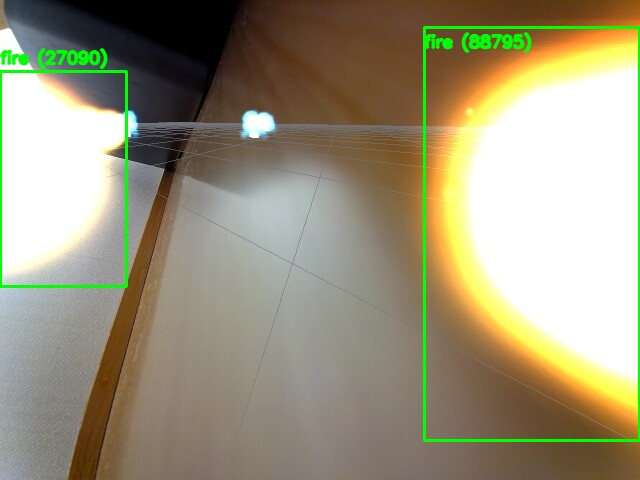fire: (424, 27, 639, 440), (0, 71, 126, 286)
